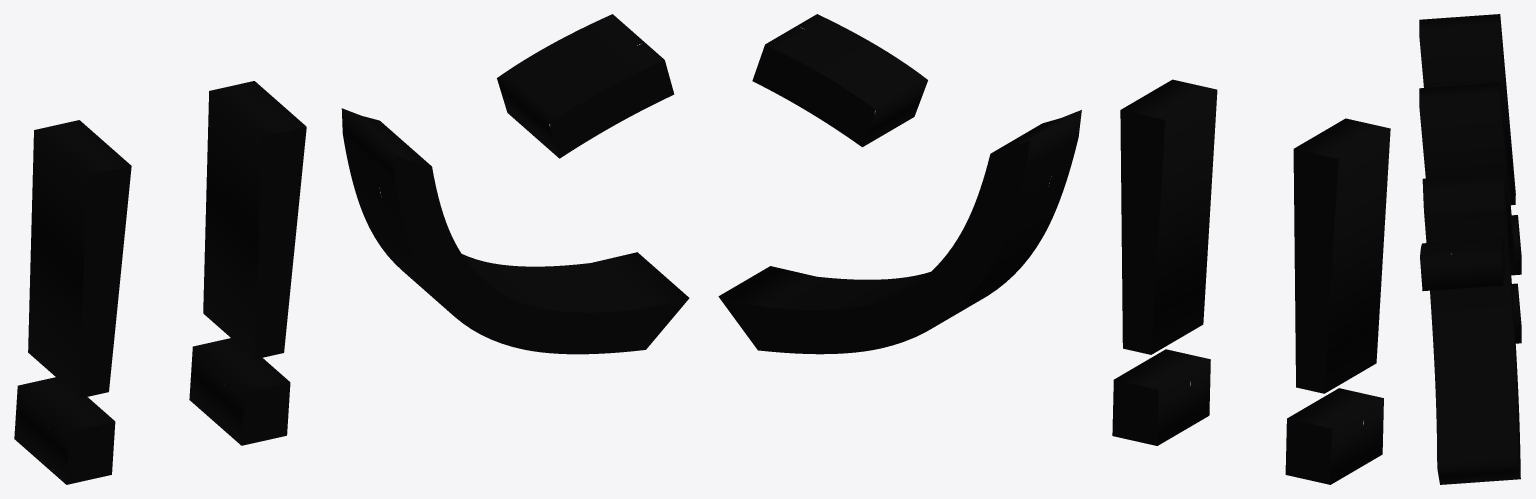
3 renders of one model, left to right at view 1: azimuth 30°, elevation 25°; view 2: azimuth 150°, elevation 25°; view 3: azimuth 270°, elevation 25°, orthographic. The views are drawn at different scales.
Visible parts, largest first — view 1: テキスト.002; view 2: テキスト.002; view 3: テキスト.002.
Part boxes in pixels (<box>): テキスト.002: <box>14,14,689,484</box>; テキスト.002: <box>718,14,1390,484</box>; テキスト.002: <box>1419,14,1521,484</box>.
Size of the model in its own units: 3.55 by 1.81 by 0.6569.
Materials: 1 (1 with a texture image).
